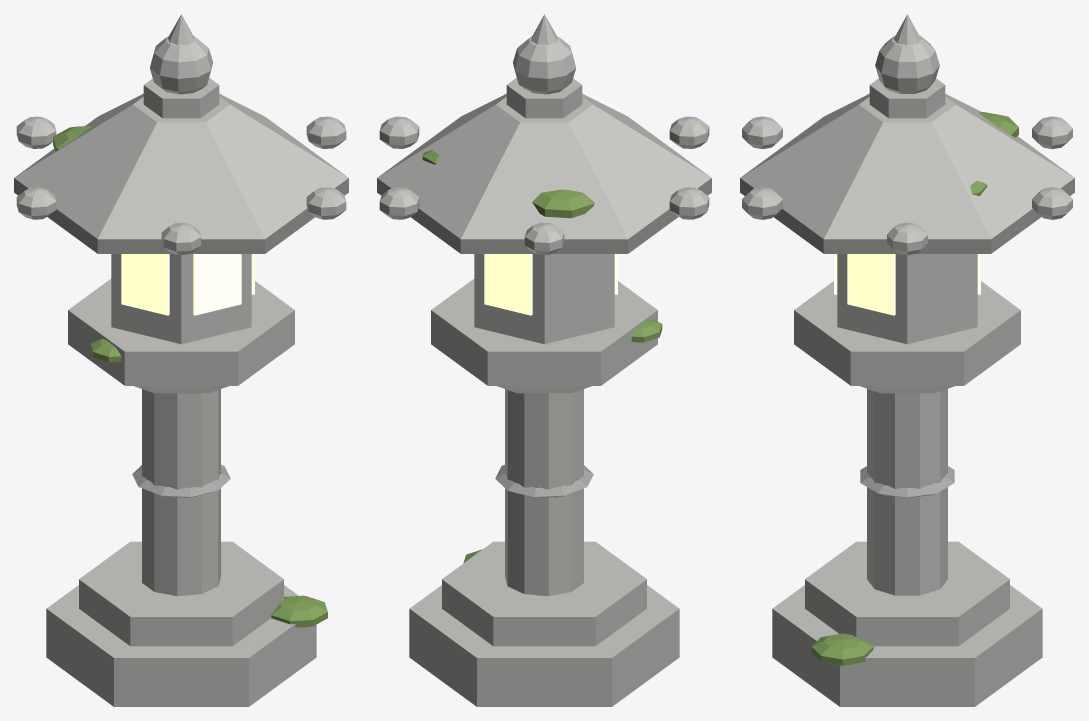
File: jp_stone_lantern.glb
The picture shows the model from 3 angles, left to right: view 1: azimuth 30°, elevation 25°; view 2: azimuth 150°, elevation 25°; view 3: azimuth 270°, elevation 25°; orthographic projection.
Parts seen in each view (by area): view 1: jp_stone_lantern; view 2: jp_stone_lantern; view 3: jp_stone_lantern.
Part boxes in pixels (bbox=[...]): jp_stone_lantern: bbox=[14, 14, 348, 706]; jp_stone_lantern: bbox=[377, 14, 711, 706]; jp_stone_lantern: bbox=[740, 14, 1074, 706].
Bounding box in the file's own units: 0.6961 × 1.31 × 0.62.
